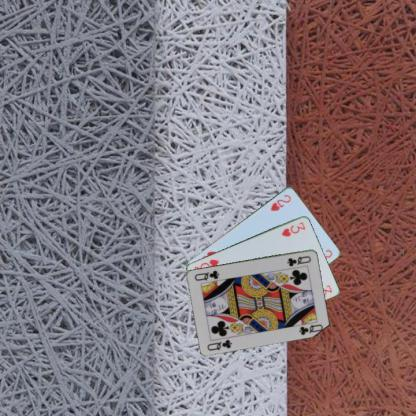2h: (268, 192, 292, 212)
3h: (279, 219, 307, 237)
Qc: (204, 337, 234, 352), (284, 253, 312, 268)
